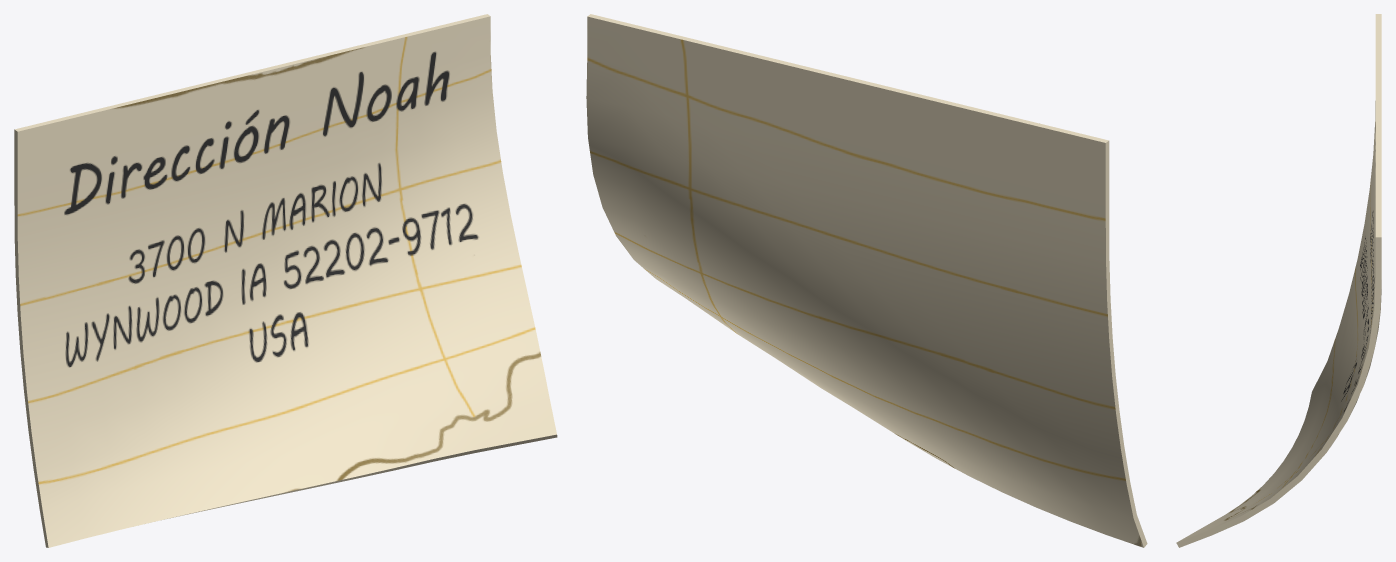
The model's file is Direccion.fbx.
3 views of the same model, side by side, from view 1: azimuth 30°, elevation 25°; view 2: azimuth 150°, elevation 25°; view 3: azimuth 270°, elevation 25° (orthographic). The views are drawn at different scales.
Visible parts, largest first — view 1: DireccionNoah; view 2: DireccionNoah; view 3: DireccionNoah.
Boxes of the visible parts, left/top/right/bottom form: DireccionNoah: left=14, top=14, right=557, bottom=547; DireccionNoah: left=586, top=14, right=1147, bottom=547; DireccionNoah: left=1176, top=14, right=1381, bottom=547.
Bounding box in the file's own units: 11.04 × 8.67 × 4.24.
1 material, 1 textured.
